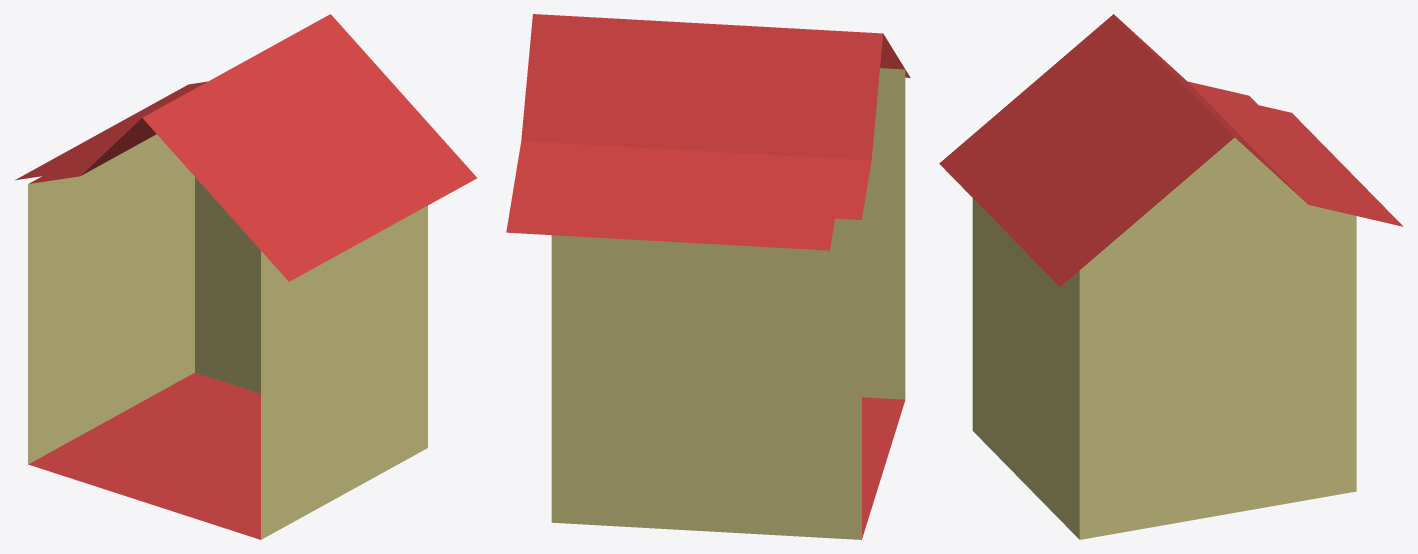
The picture shows the model from 3 angles, left to right: view 1: azimuth 30°, elevation 25°; view 2: azimuth 150°, elevation 25°; view 3: azimuth 270°, elevation 25°; orthographic projection. The views are drawn at different scales.
Size of the model in its own units: 8.72 by 9.64 by 8.96.
